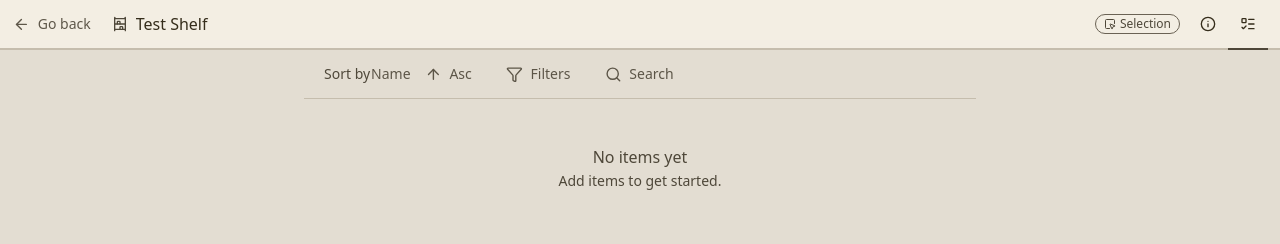
Scenario: Shelf Detail - Items Tab › user can create an item by clicking the create button in the search input
Note: user opens the search panel
Click the button with aria-label "toggle search".
click(639, 74)  # box [592, 58, 687, 90]
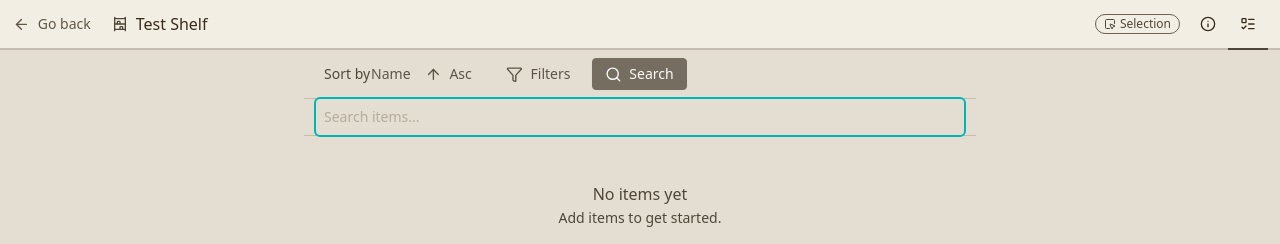
Check: the field with placeholder "Search items..." is shown
Note: user types "Butter" and clicks the + create button inside the search input
Type "Butter" into the field with placeholder "Search items...".
click(640, 117); type("Butter")  # box [316, 99, 964, 135]
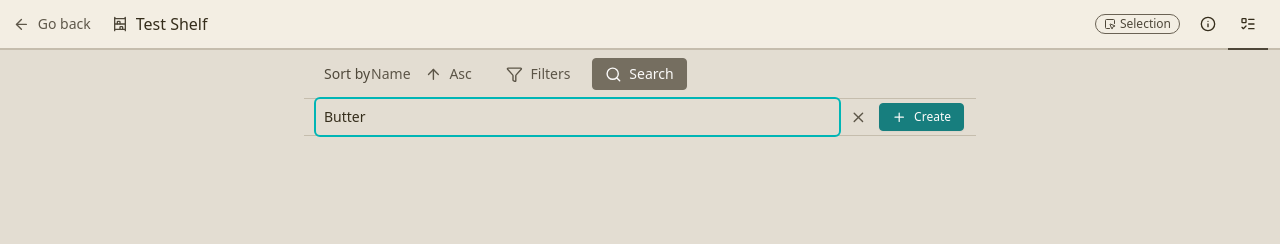
Check: the button with aria-label "create item" is shown
Click the button with aria-label "create item".
click(921, 117)  # box [879, 103, 964, 131]
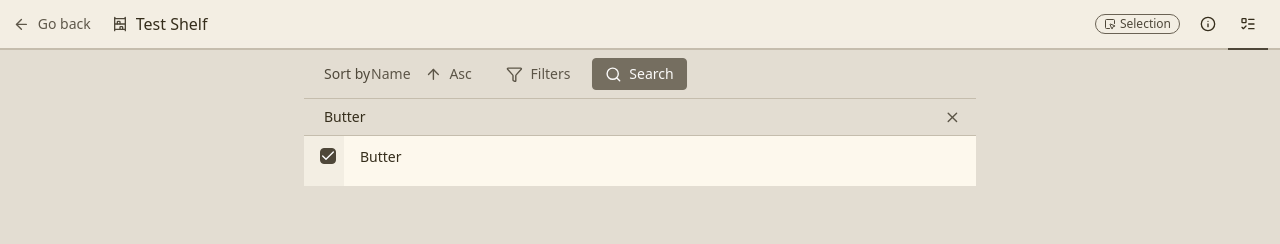
Check: the checkbox named "Remove Butter" is checked, box [320, 148, 336, 164]
